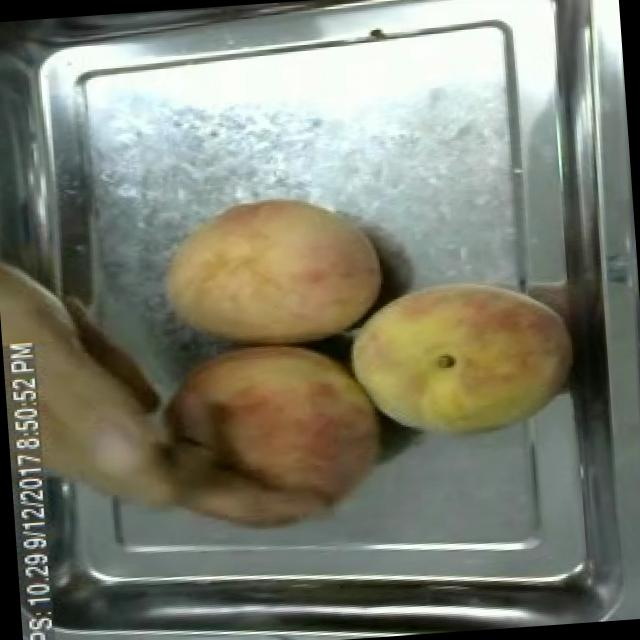Fruit: (152, 326, 402, 550), (334, 260, 582, 452), (145, 182, 396, 360)
